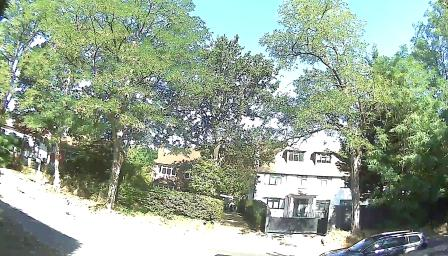Cars: (308, 226, 438, 256)
